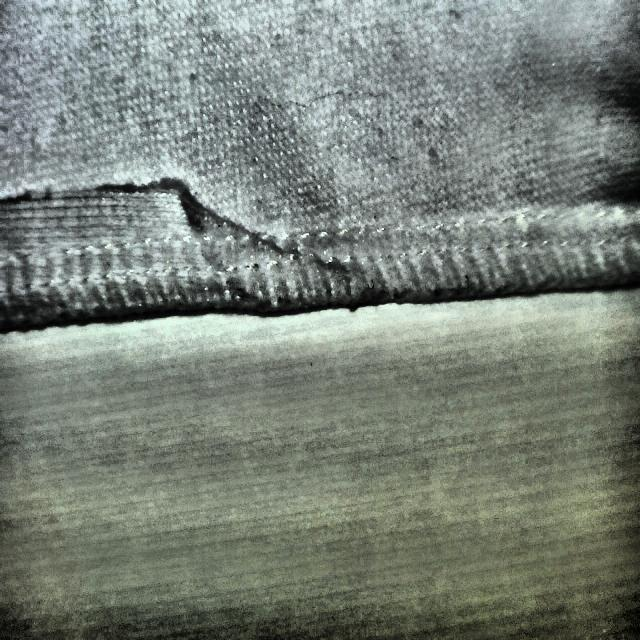seam: (0, 149, 258, 330)
